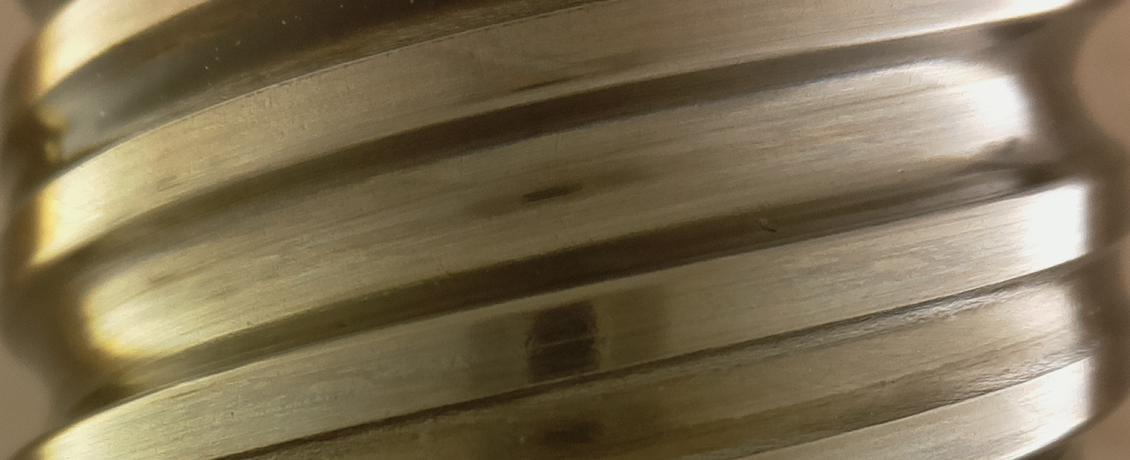pitting: (752, 215, 777, 232)
